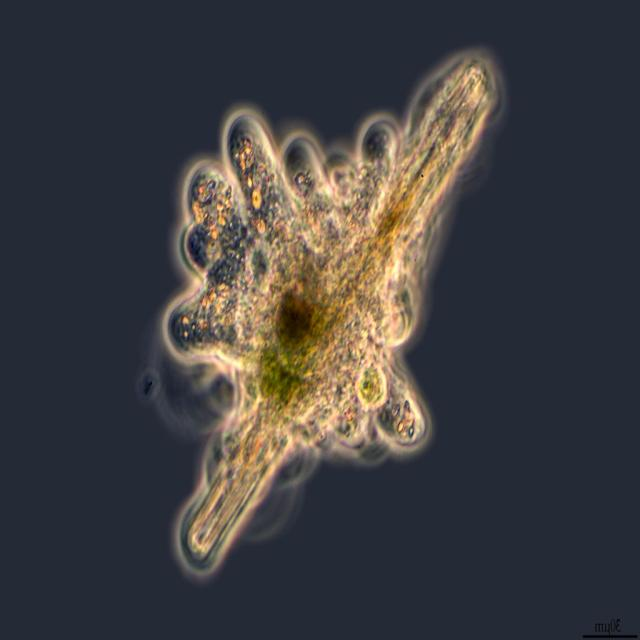Amoeba: (142, 45, 506, 580)
